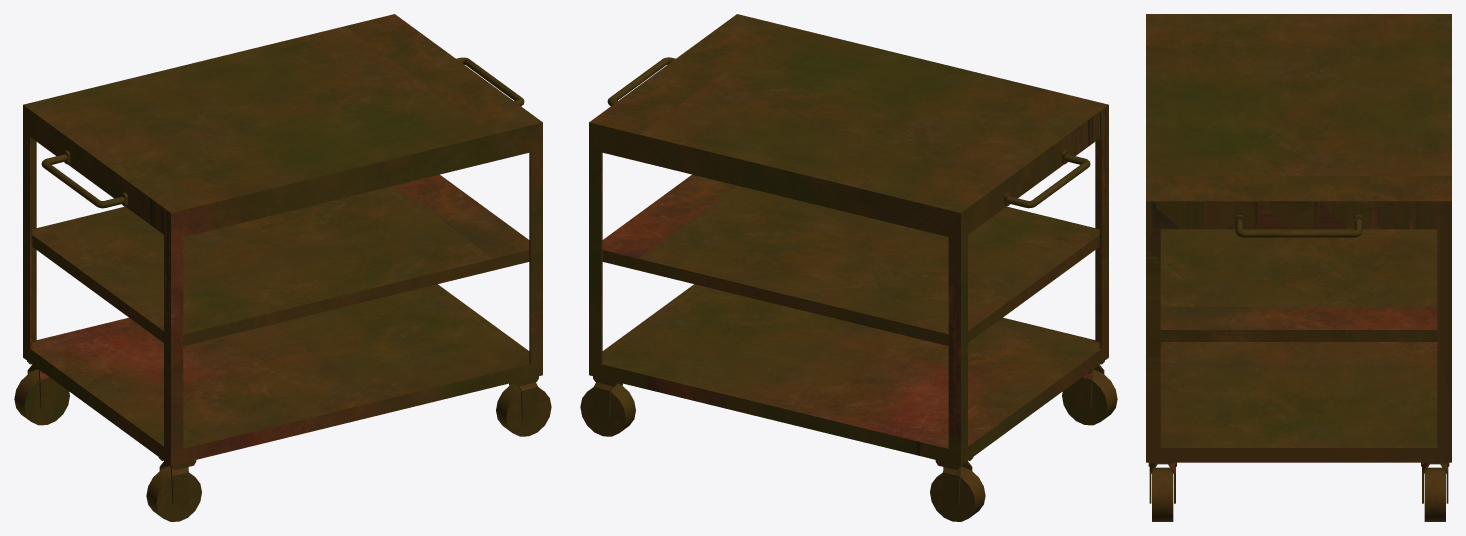
File: rollingCart.fbx
3 views of the same model, side by side, from view 1: azimuth 30°, elevation 25°; view 2: azimuth 150°, elevation 25°; view 3: azimuth 270°, elevation 25° (orthographic). The views are drawn at different scales.
Visible parts, largest first — view 1: Osnovanie_low; view 2: Osnovanie_low; view 3: Osnovanie_low.
Part boxes in pixels (x1,y1,x2,y2): Osnovanie_low: (14,14,551,521); Osnovanie_low: (580,14,1117,521); Osnovanie_low: (1146,14,1451,521).
Size of the model in its own units: 115 by 80.54 by 69.
